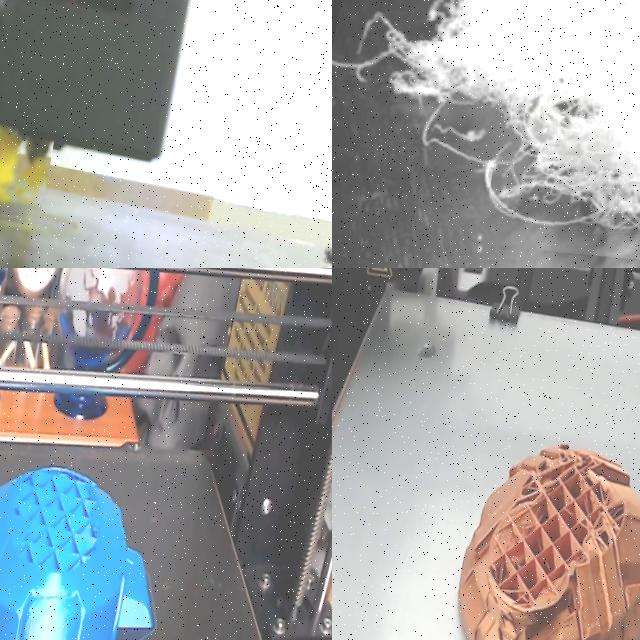spaghetti: (332, 0, 640, 268), (0, 117, 55, 228)
